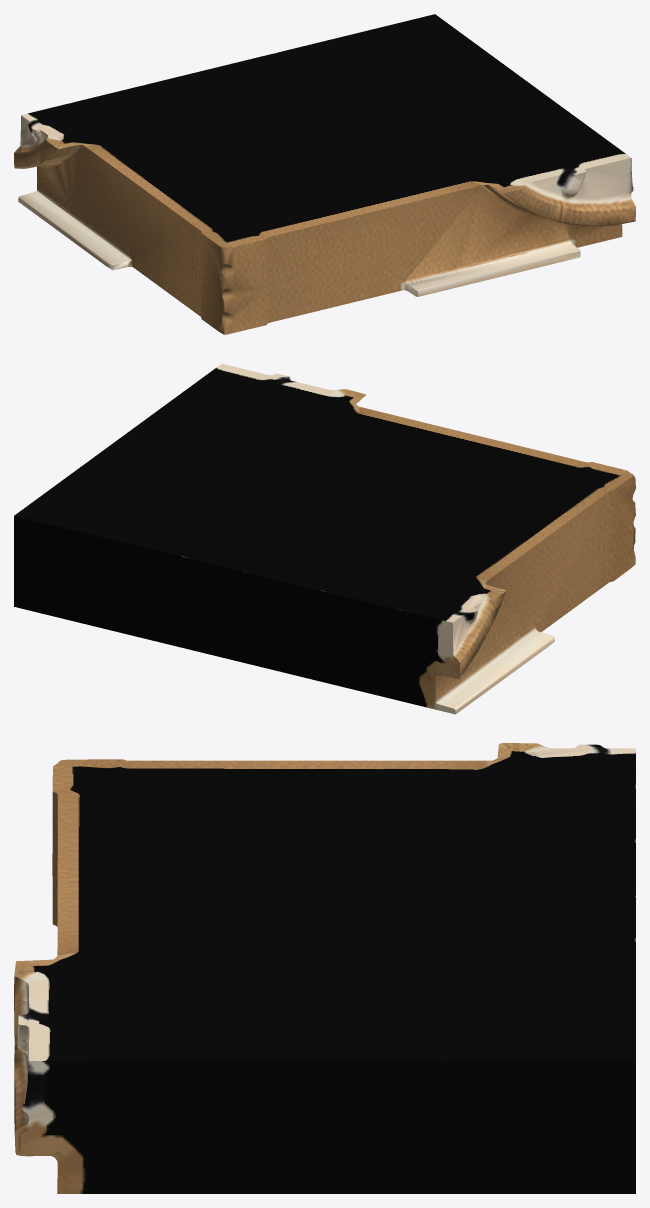
Rendered from 9-roof-front-left.fbx.
The picture shows the model from 3 angles, top to bottom: view 1: azimuth 30°, elevation 25°; view 2: azimuth 150°, elevation 25°; view 3: azimuth 270°, elevation 25°; orthographic projection. The views are drawn at different scales.
Visible parts, largest first — view 1: roof-front-left; view 2: roof-front-left; view 3: roof-front-left.
Boxes of the visible parts, <box> form: roof-front-left: <box>14,14,635,334</box>; roof-front-left: <box>14,363,635,714</box>; roof-front-left: <box>14,743,635,1193</box>.
Bounding box in the file's own units: 4890 × 952 × 4042.
Materials: 1 (1 with a texture image).
